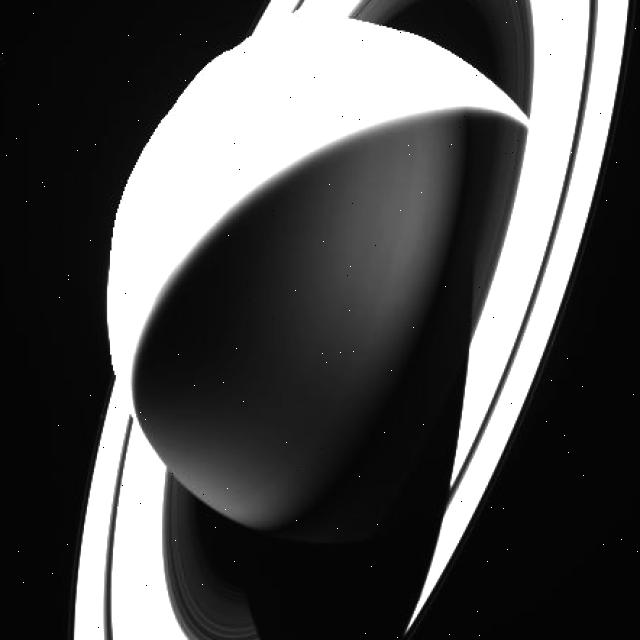Saturn: (74, 0, 636, 640)
